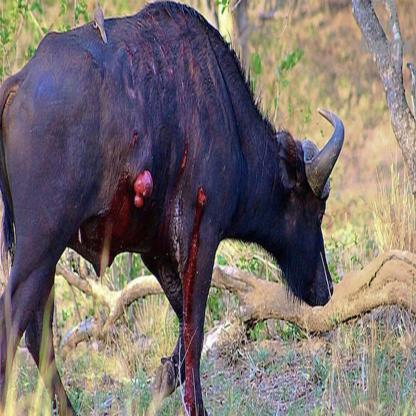buffalo: (6, 12, 346, 403)
injured: (178, 122, 206, 410), (109, 140, 159, 248)
